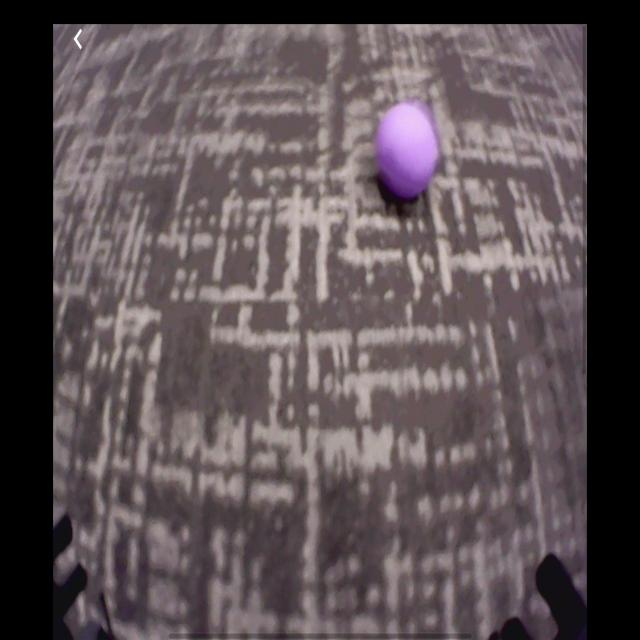ball: (377, 103, 439, 201)
